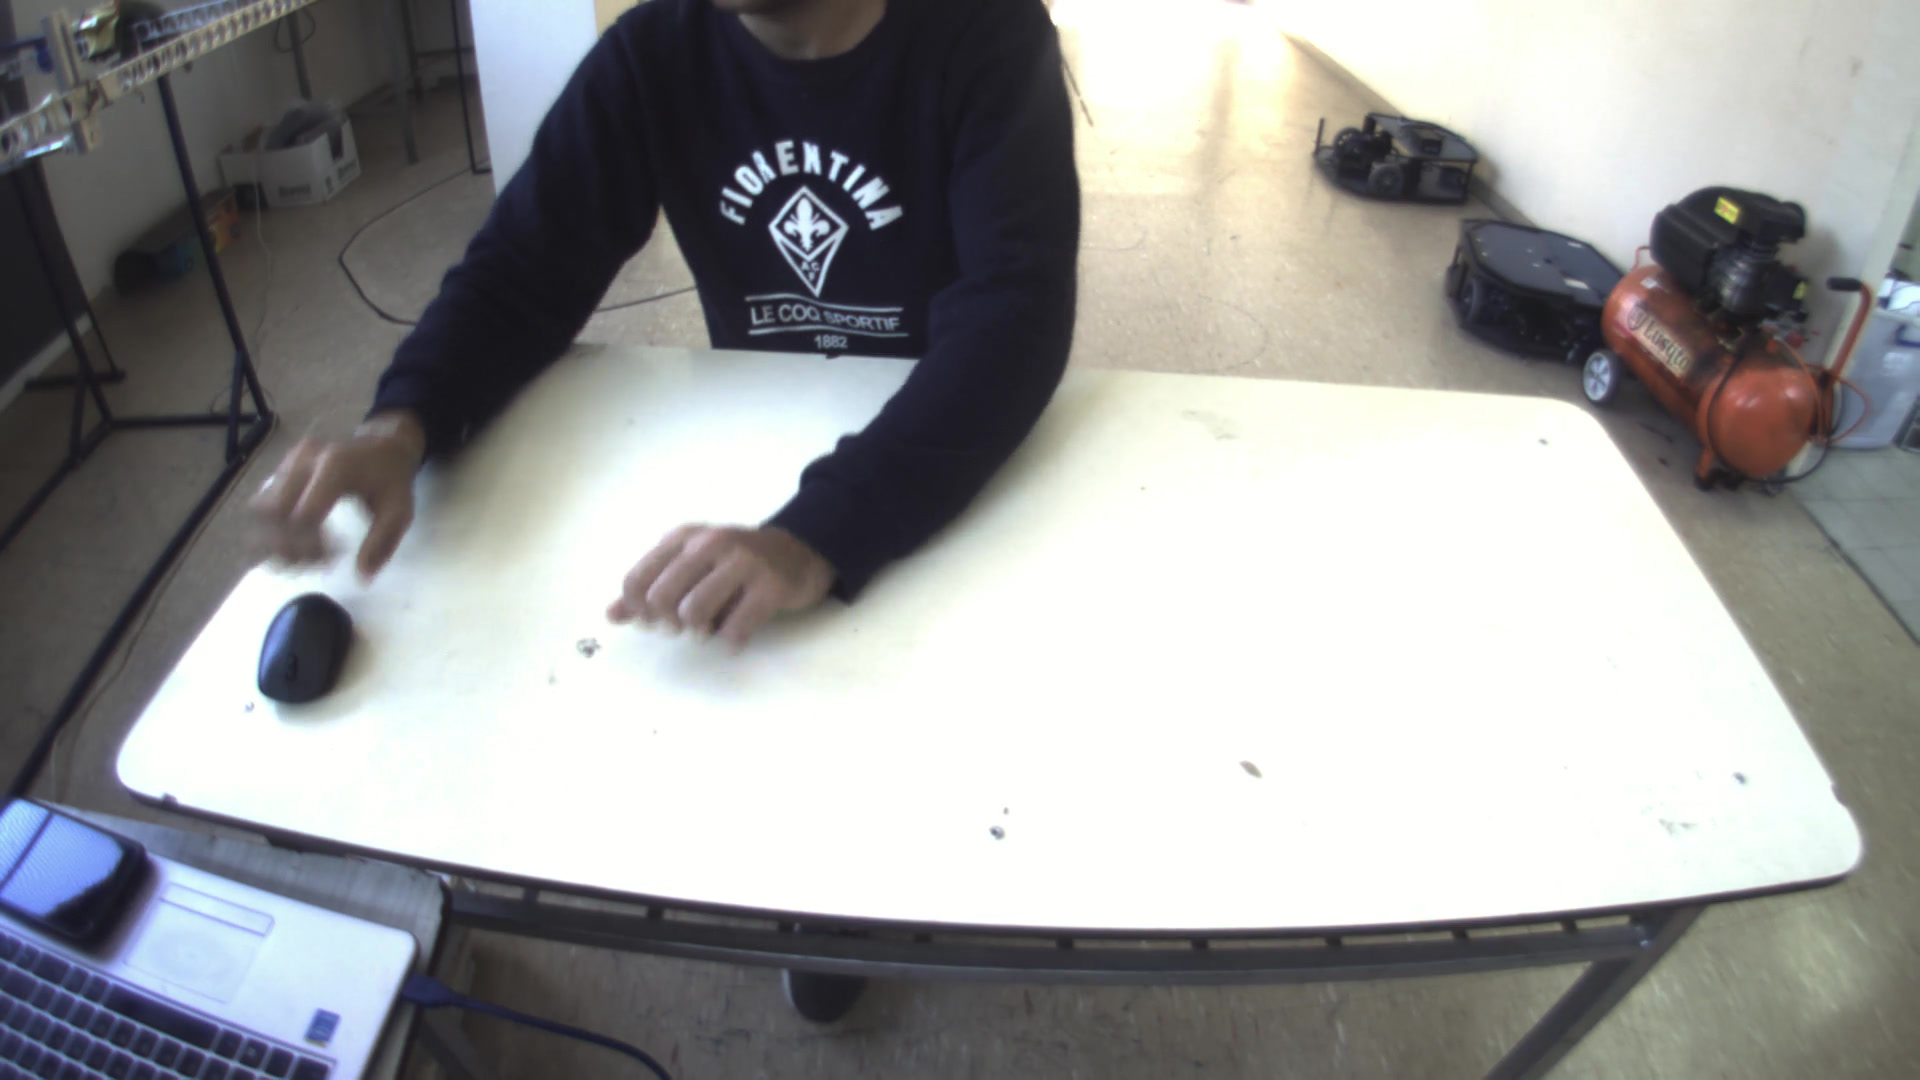hand: (603, 498, 828, 657), (235, 411, 434, 587)
